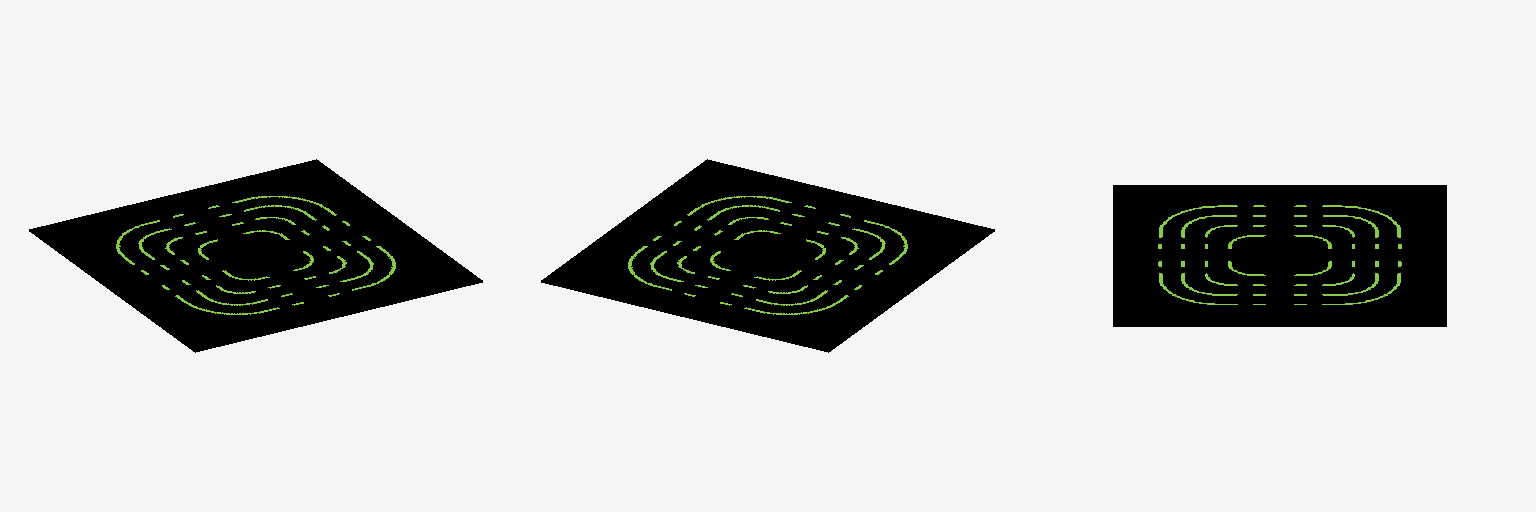
3 views of the same model, side by side, from view 1: azimuth 30°, elevation 25°; view 2: azimuth 150°, elevation 25°; view 3: azimuth 270°, elevation 25° (orthographic).
Visible parts, largest first — view 1: testmap; view 2: testmap; view 3: testmap.
Part boxes in pixels (x1,y1,x2,y2): testmap: (29,159,482,352); testmap: (541,159,994,352); testmap: (1113,185,1446,326).
Bounding box in the file's own units: 25.6 × 0.1 × 25.6.
Materials: 1 (1 with a texture image).